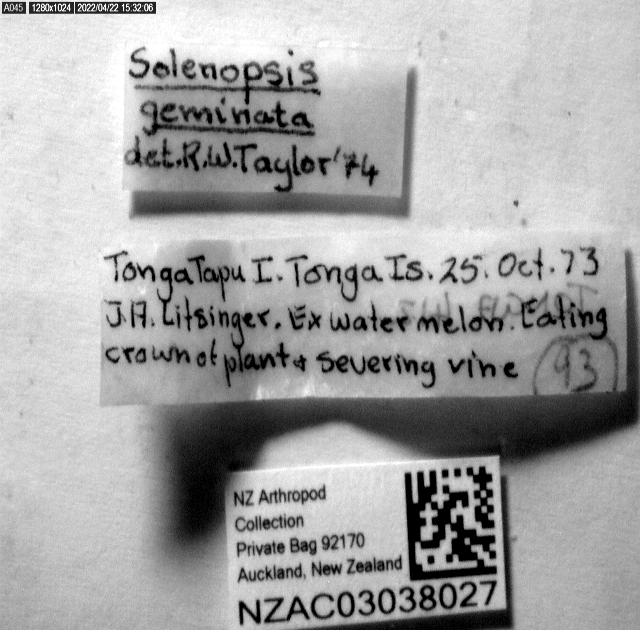hand_label: (99, 233, 626, 406), (122, 42, 408, 212)
typed_label: (225, 456, 506, 628)
